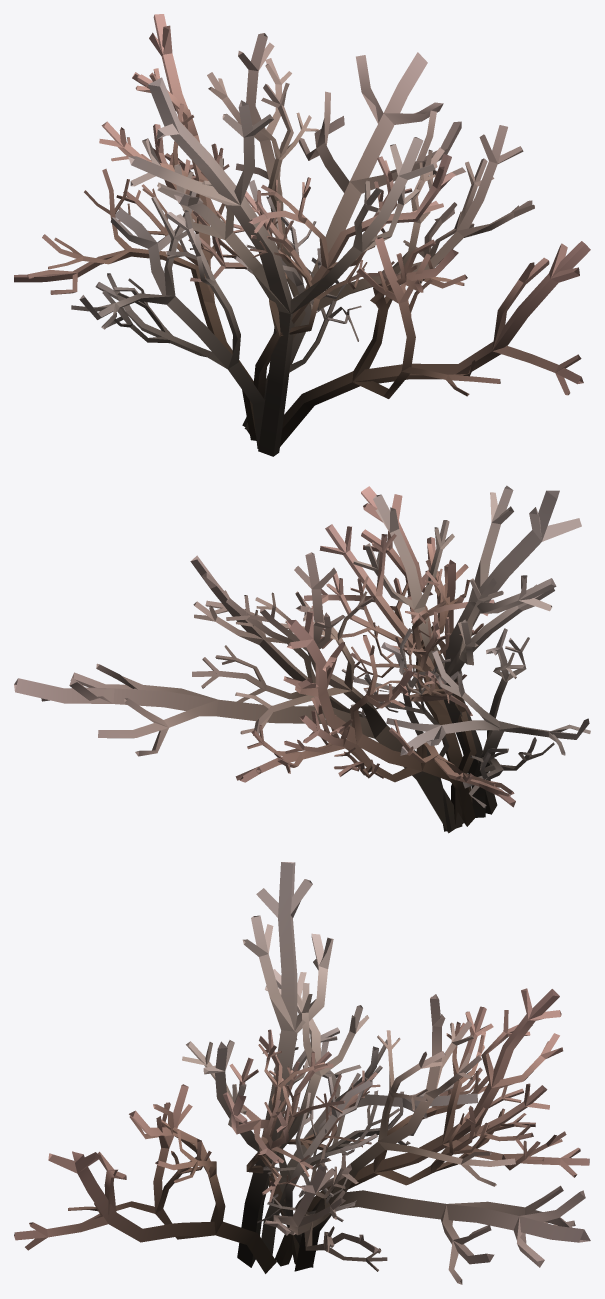
The model's file is DeadBushV3.fbx.
The picture shows the model from 3 angles, top to bottom: view 1: azimuth 30°, elevation 25°; view 2: azimuth 150°, elevation 25°; view 3: azimuth 270°, elevation 25°; orthographic projection. The views are drawn at different scales.
Visible parts, largest first — view 1: BushV3; view 2: BushV3; view 3: BushV3.
Part boxes in pixels (x1,y1,x2,y2): BushV3: (14, 14, 590, 456); BushV3: (14, 485, 590, 833); BushV3: (14, 862, 590, 1284).
Bounding box in the file's own units: 73.26 × 55.97 × 80.49.
